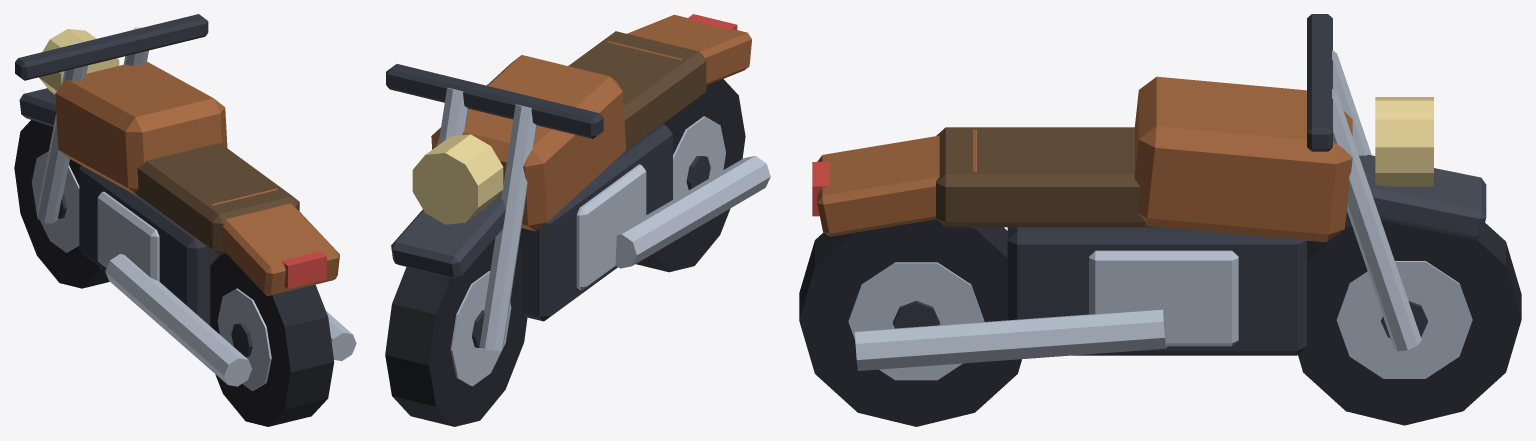
Rendered from Stylized_Apoc_Motorcycle_01_Rusted_Scrambler.fbx.
3 views of the same model, side by side, from view 1: azimuth 30°, elevation 25°; view 2: azimuth 150°, elevation 25°; view 3: azimuth 270°, elevation 25° (orthographic). The views are drawn at different scales.
Parts seen in each view (by area): view 1: Stylized_Apoc_Motorcycle_01_Rusted_Scrambler; view 2: Stylized_Apoc_Motorcycle_01_Rusted_Scrambler; view 3: Stylized_Apoc_Motorcycle_01_Rusted_Scrambler.
Part boxes in pixels (x1,y1,x2,y2): Stylized_Apoc_Motorcycle_01_Rusted_Scrambler: [14, 14, 356, 426]; Stylized_Apoc_Motorcycle_01_Rusted_Scrambler: [385, 14, 770, 426]; Stylized_Apoc_Motorcycle_01_Rusted_Scrambler: [799, 14, 1521, 426].
Size of the model in its own units: 0.86 by 1.16 by 2.22.
